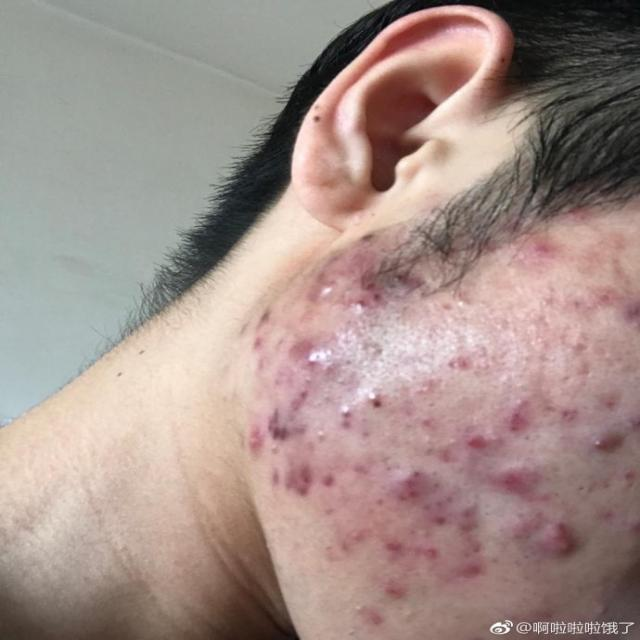Acne: (362, 520, 504, 621), (344, 378, 482, 451), (308, 454, 396, 566), (393, 454, 523, 526), (480, 392, 552, 486), (289, 326, 412, 379), (272, 400, 332, 498), (513, 310, 596, 374), (515, 497, 594, 561), (317, 253, 396, 310), (561, 374, 637, 424), (241, 298, 284, 384), (590, 276, 640, 326), (428, 342, 486, 382), (506, 224, 546, 274), (578, 424, 616, 469), (241, 412, 270, 462), (616, 542, 640, 596)
